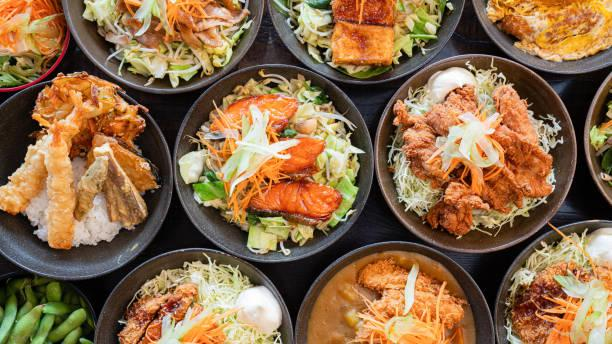Braised Crucian Carp: (375, 53, 573, 252), (171, 64, 366, 262), (0, 77, 170, 275)
